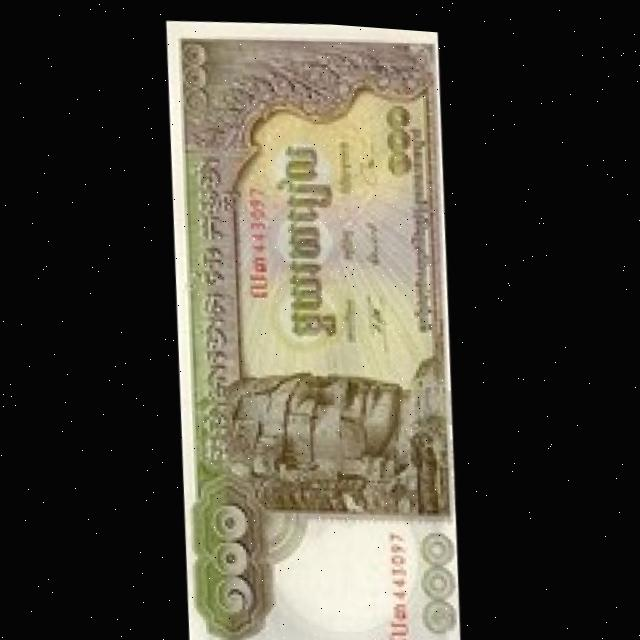banknote: (158, 10, 468, 640)
